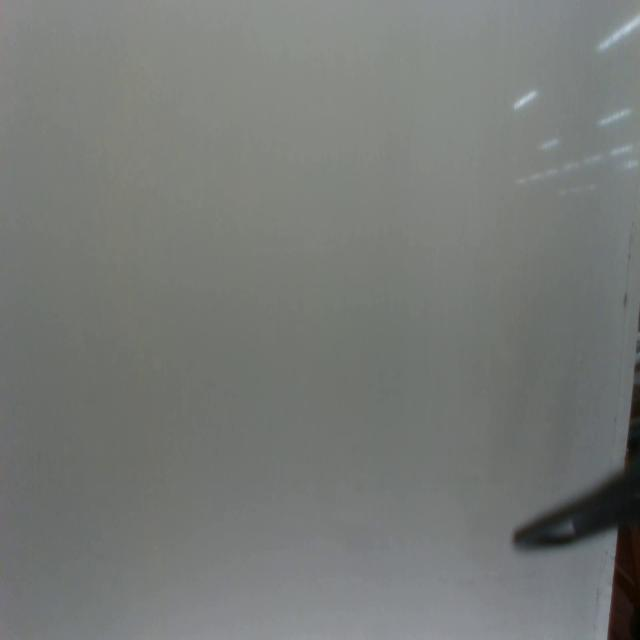hole: (622, 292, 628, 311), (596, 588, 600, 606), (603, 546, 609, 557), (627, 250, 631, 262)
